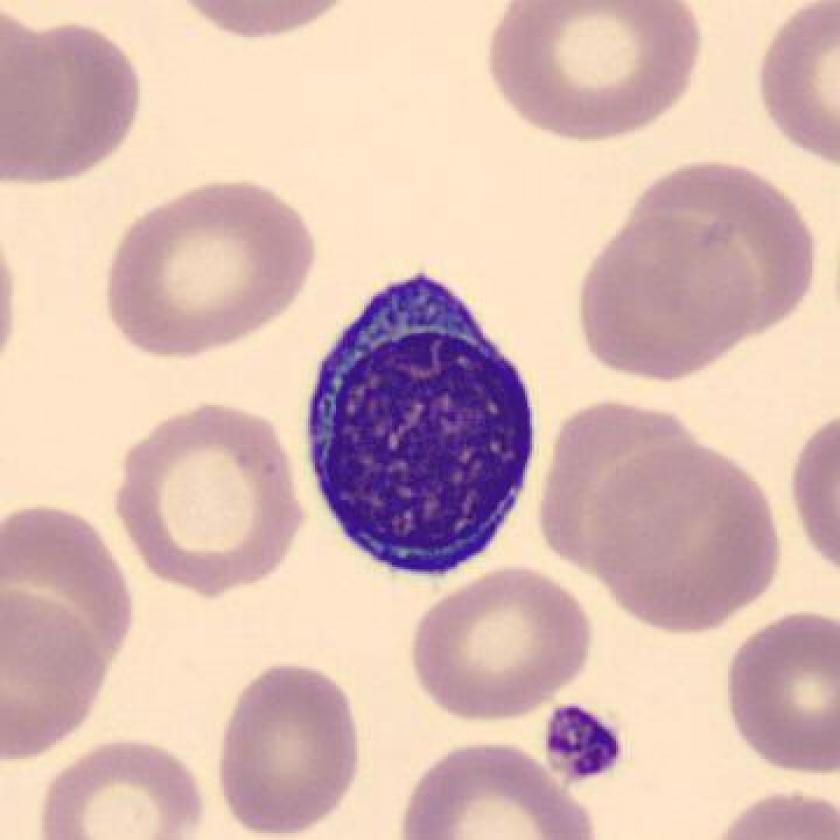lymphocyte: (286, 253, 559, 591)
platelets: (535, 696, 624, 792)
